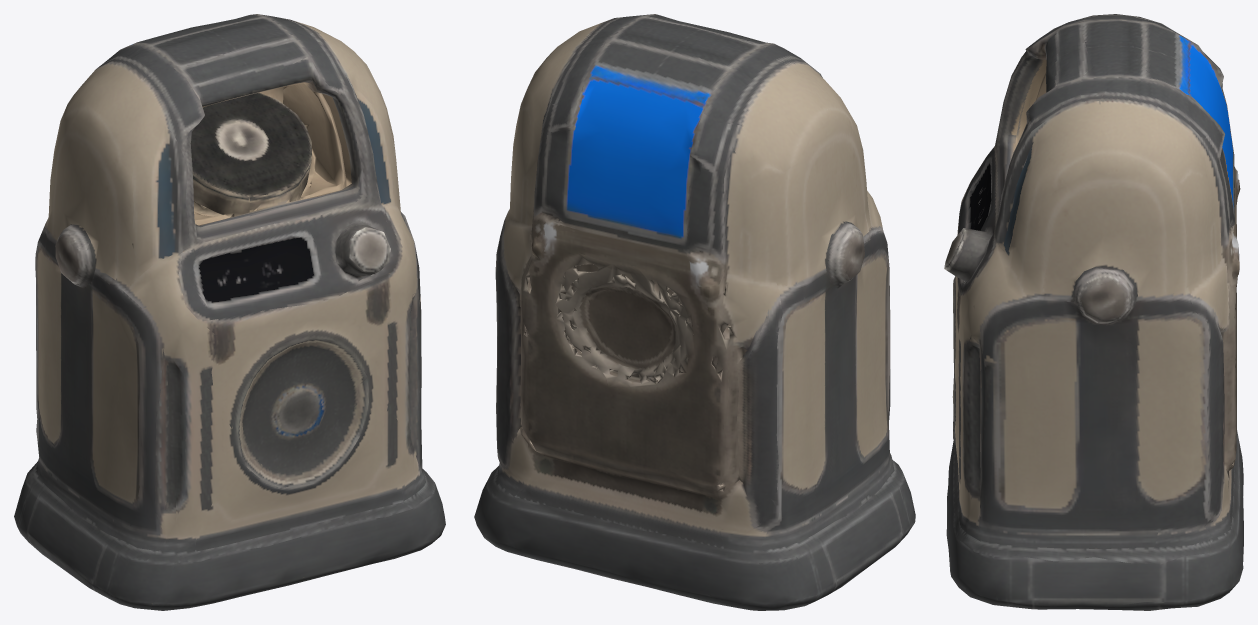
The model's file is jukebox-v1.glb.
The picture shows the model from 3 angles, left to right: view 1: azimuth 30°, elevation 25°; view 2: azimuth 150°, elevation 25°; view 3: azimuth 270°, elevation 25°; orthographic projection. The views are drawn at different scales.
Size of the model in its own units: 0.7354 by 1 by 0.5584.
Materials: 1 (1 with a texture image).
